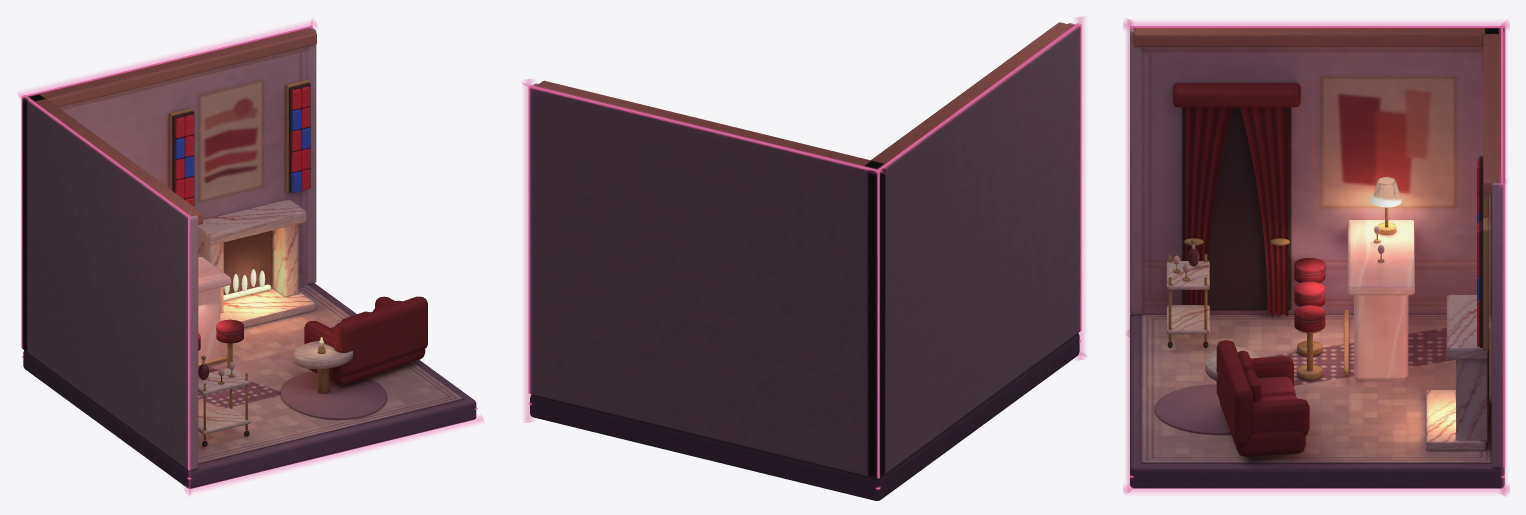
Rendered from red-room.glb.
3 renders of one model, left to right at view 1: azimuth 30°, elevation 25°; view 2: azimuth 150°, elevation 25°; view 3: azimuth 270°, elevation 25°, orthographic. The views are drawn at different scales.
Parts seen in each view (by area): view 1: Red Room • baked interior, Feathered silhouette glow 2, Feathered silhouette glow 5, Back upper luminous rim; view 2: Red Room • baked interior, Feathered silhouette glow 4, Feathered silhouette glow 1, Back upper luminous rim, Wall luminous edge.001, Feathered silhouette glow 5, Left upper luminous rim; view 3: Red Room • baked interior, Feathered silhouette glow 3, Feathered silhouette glow 0, Feathered silhouette glow 4, Feathered silhouette glow 1, Wall luminous edge.002, Left upper luminous rim, Feathered silhouette glow 5, Feathered silhouette glow 2.
Boxes of the visible parts, x1=… form: Red Room • baked interior: x1=22, y1=27, x2=476, y2=488; Feathered silhouette glow 2: x1=184, y1=415, x2=484, y2=494; Feathered silhouette glow 5: x1=17, y1=20, x2=317, y2=99; Back upper luminous rim: x1=23, y1=25, x2=312, y2=97; Red Room • baked interior: x1=529, y1=22, x2=1080, y2=500; Feathered silhouette glow 4: x1=524, y1=79, x2=533, y2=422; Feathered silhouette glow 1: x1=1075, y1=16, x2=1084, y2=360; Back upper luminous rim: x1=529, y1=85, x2=880, y2=172; Wall luminous edge.001: x1=877, y1=172, x2=879, y2=478; Feathered silhouette glow 5: x1=522, y1=82, x2=885, y2=173; Left upper luminous rim: x1=875, y1=23, x2=1079, y2=172; Red Room • baked interior: x1=1130, y1=28, x2=1504, y2=488; Feathered silhouette glow 3: x1=1123, y1=485, x2=1509, y2=493; Feathered silhouette glow 0: x1=1123, y1=21, x2=1509, y2=29; Feathered silhouette glow 4: x1=1500, y1=176, x2=1506, y2=495; Feathered silhouette glow 1: x1=1126, y1=18, x2=1132, y2=336; Wall luminous edge.002: x1=1503, y1=183, x2=1505, y2=467; Left upper luminous rim: x1=1130, y1=26, x2=1504, y2=27; Feathered silhouette glow 5: x1=1500, y1=20, x2=1506, y2=187; Feathered silhouette glow 2: x1=1126, y1=329, x2=1132, y2=494.
Bounding box in the file's own units: 2.09 × 1.89 × 2.09.
Materials: 3 (2 with a texture image).
